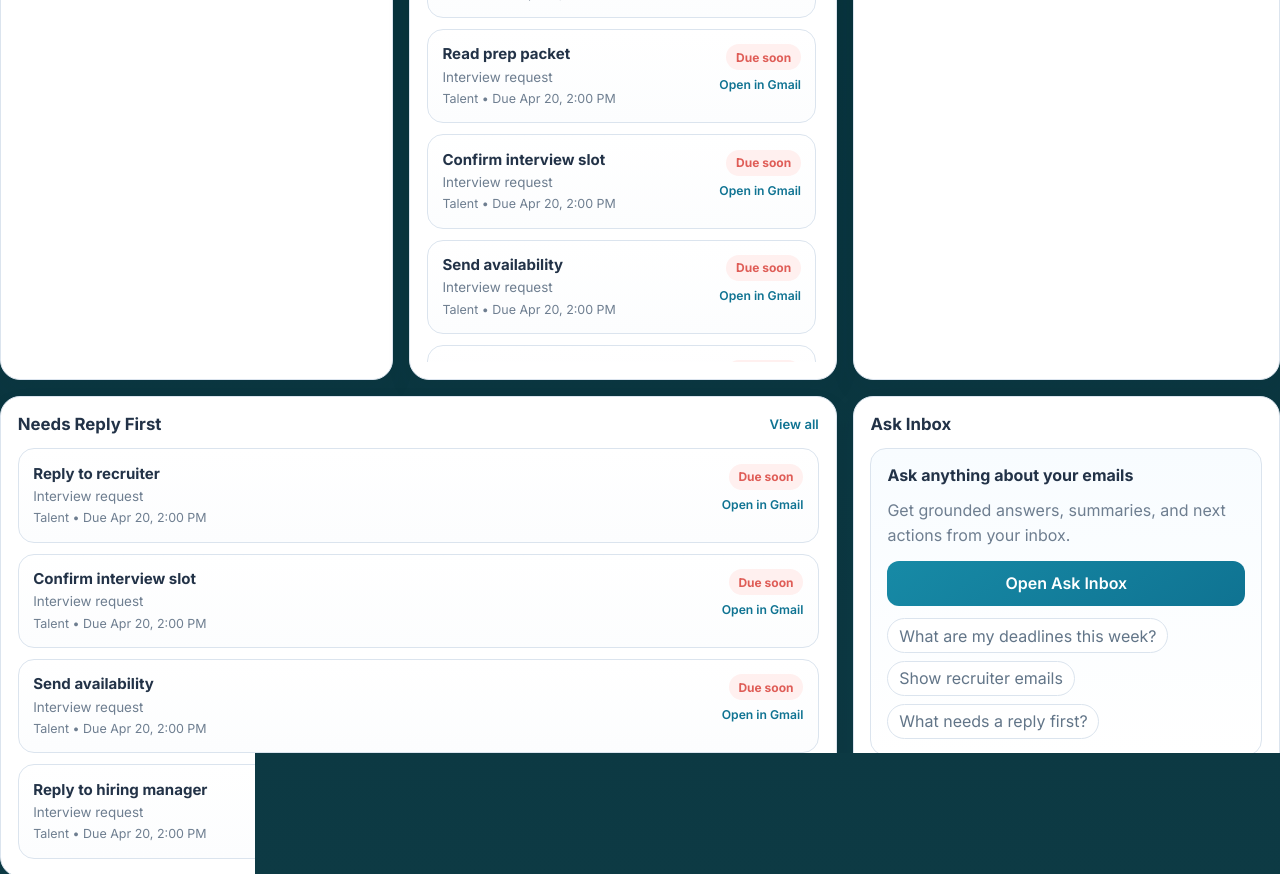
DashboardPage › shows only reply-needed items in needs reply first
(page scrolled)
Expected: the text "Reply to recruiter" is shown, x1=33 y1=464 x2=160 y2=483
Expected: the text "Confirm interview slot" below "Needs Reply First" is shown, x1=33 y1=569 x2=196 y2=588
Step 1. Click the button "View all" → (794, 424), box x1=770 y1=416 x2=819 y2=432
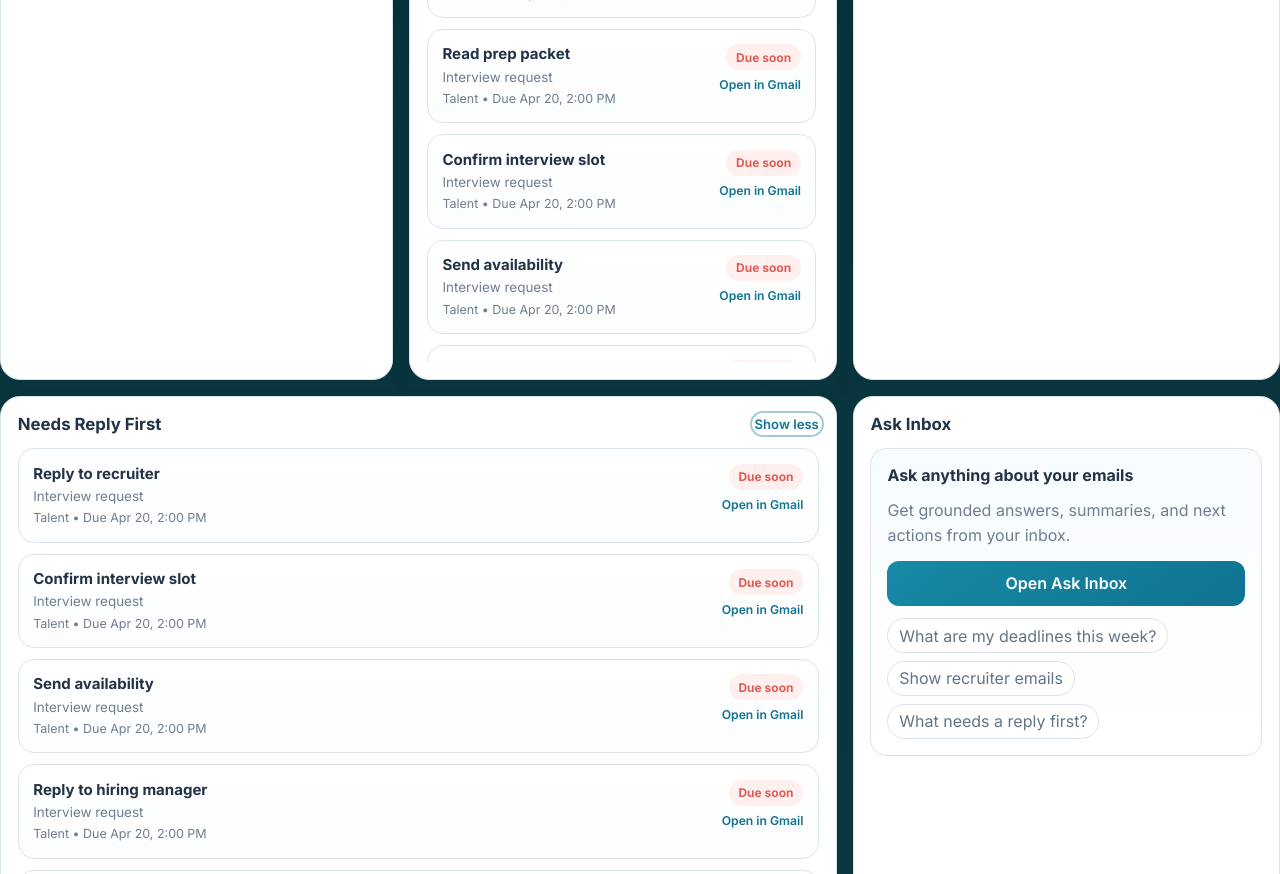
Expected: the button "Show less" is shown, x1=755 y1=416 x2=819 y2=432
